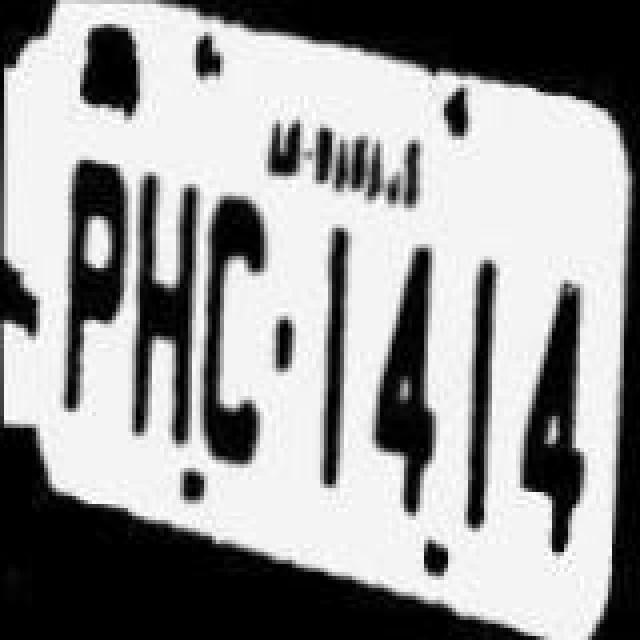1: (460, 246, 500, 530), (318, 220, 358, 496)
4: (518, 272, 602, 560), (368, 250, 448, 518)
C: (194, 190, 274, 466)
H: (120, 164, 204, 456)
P: (48, 152, 132, 448)
